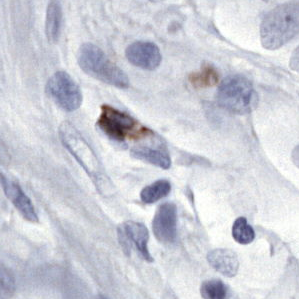Lymphocyte: (96, 103, 149, 142)
